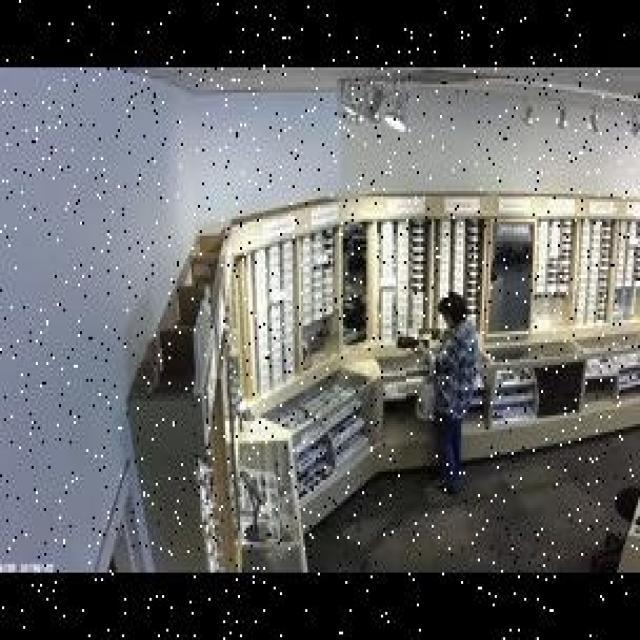Shoplifting: (391, 288, 498, 507)
